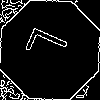L: (25, 25, 78, 69)
